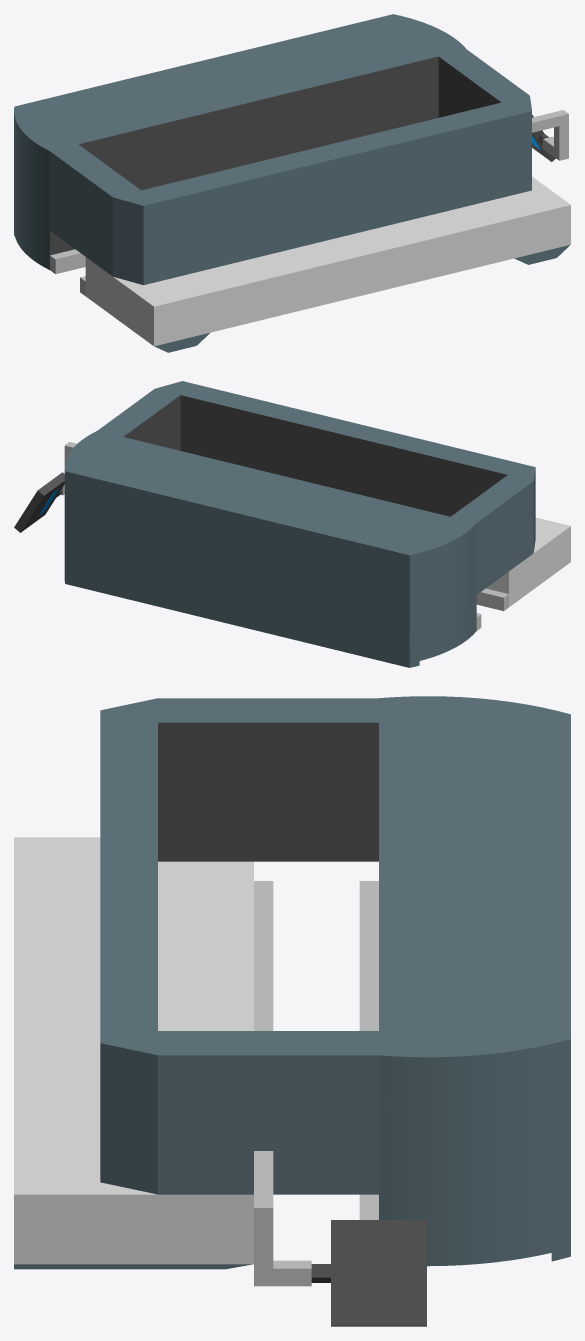
File: cnc_bending_machine_2_state_1.dae
3 views of the same model, one above another, from view 1: azimuth 30°, elevation 25°; view 2: azimuth 150°, elevation 25°; view 3: azimuth 270°, elevation 25° (orthographic). The views are drawn at different scales.
Visible parts, largest first — view 1: coords_ME_ID19_MA_material_16, coords_ME_ID3_MA_material_8, coords_ME_ID55_MA_material, coords_ME_ID43_MA_material_11, coords_ME_ID49_MA_material_11, coords_ME_ID73_MA_material_16, coords_ME_ID67_MA_material_16; view 2: coords_ME_ID19_MA_material_16, coords_ME_ID55_MA_material, coords_ME_ID3_MA_material_8, coords_ME_ID61_MA_material, coords_ME_ID11_MA_material_11; view 3: coords_ME_ID19_MA_material_16, coords_ME_ID3_MA_material_8, coords_ME_ID55_MA_material, coords_ME_ID61_MA_material, coords_ME_ID43_MA_material_11, coords_ME_ID49_MA_material_11, coords_ME_ID11_MA_material_11, coords_ME_ID67_MA_material_16.
Part boxes in pixels (<box>): coords_ME_ID19_MA_material_16: <box>14,14,531,285</box>; coords_ME_ID3_MA_material_8: <box>85,176,570,346</box>; coords_ME_ID55_MA_material: <box>50,56,500,255</box>; coords_ME_ID43_MA_material_11: <box>532,110,568,160</box>; coords_ME_ID49_MA_material_11: <box>50,249,85,274</box>; coords_ME_ID73_MA_material_16: <box>154,332,210,352</box>; coords_ME_ID67_MA_material_16: <box>514,245,569,264</box>; coords_ME_ID19_MA_material_16: <box>64,381,535,667</box>; coords_ME_ID55_MA_material: <box>123,395,507,516</box>; coords_ME_ID3_MA_material_8: <box>486,517,570,606</box>; coords_ME_ID61_MA_material: <box>14,472,64,532</box>; coords_ME_ID11_MA_material_11: <box>476,588,508,611</box>; coords_ME_ID19_MA_material_16: <box>100,696,570,1266</box>; coords_ME_ID3_MA_material_8: <box>14,837,253,1264</box>; coords_ME_ID55_MA_material: <box>158,722,378,861</box>; coords_ME_ID61_MA_material: <box>311,1220,426,1326</box>; coords_ME_ID43_MA_material_11: <box>254,1151,311,1286</box>; coords_ME_ID49_MA_material_11: <box>359,881,378,1219</box>; coords_ME_ID11_MA_material_11: <box>254,881,273,1030</box>; coords_ME_ID67_MA_material_16: <box>14,1264,252,1269</box>.
Bounding box in the file's own units: 70.27 × 22.76 × 38.82.
